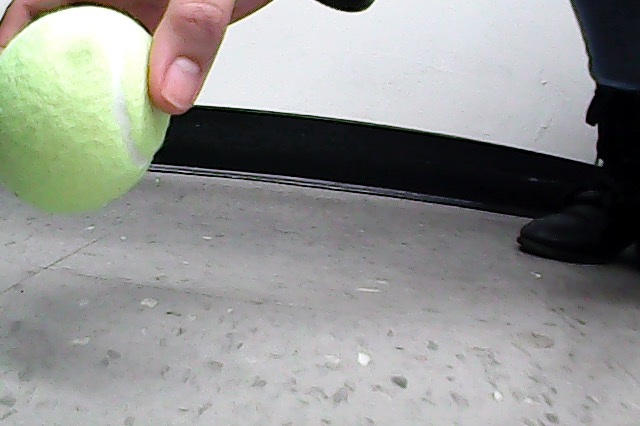ball: (1, 6, 172, 212)
